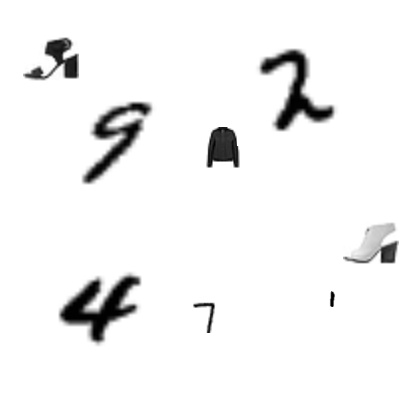1: (321, 288, 343, 310)
2: (237, 34, 349, 146)
4: (40, 249, 152, 361)
7: (186, 291, 228, 333)
9: (59, 79, 171, 191)
Coat: (202, 127, 244, 169)
Sandal: (23, 30, 79, 86), (343, 215, 399, 271)
